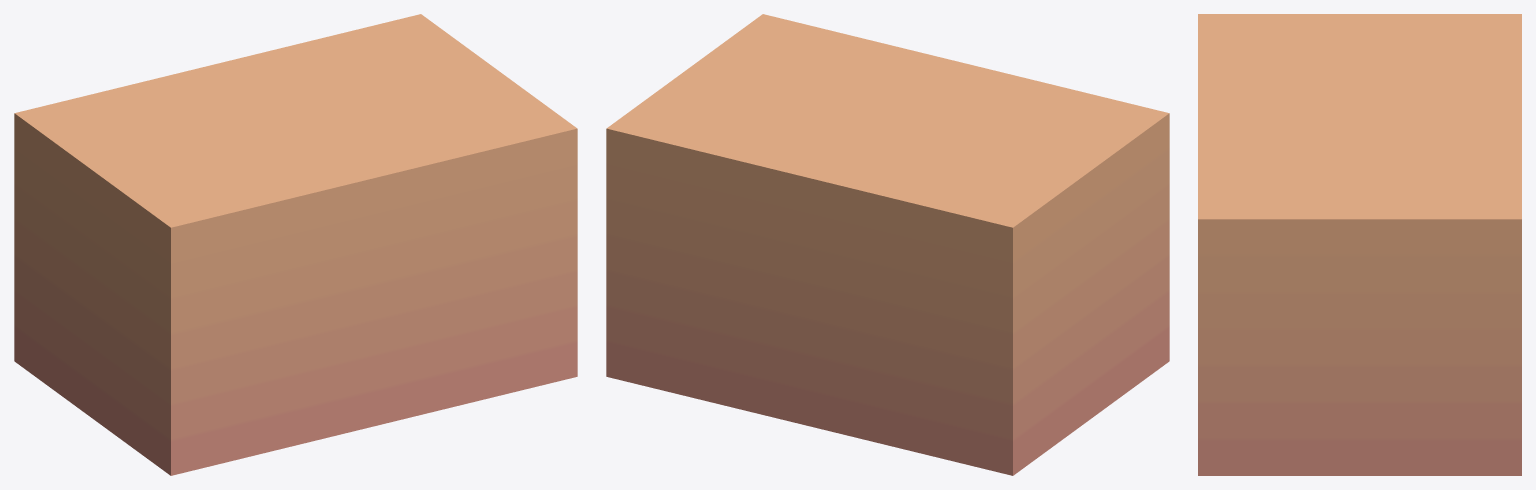
Rendered from Spine021.fbx.
The picture shows the model from 3 angles, left to right: view 1: azimuth 30°, elevation 25°; view 2: azimuth 150°, elevation 25°; view 3: azimuth 270°, elevation 25°; orthographic projection. The views are drawn at different scales.
Visible parts, largest first — view 1: Spine021; view 2: Spine021; view 3: Spine021.
Boxes of the visible parts, bbox=[...] form: Spine021: bbox=[14, 14, 577, 475]; Spine021: bbox=[606, 14, 1169, 475]; Spine021: bbox=[1198, 14, 1521, 475].
Bounding box in the file's own units: 12 × 7 × 8.
